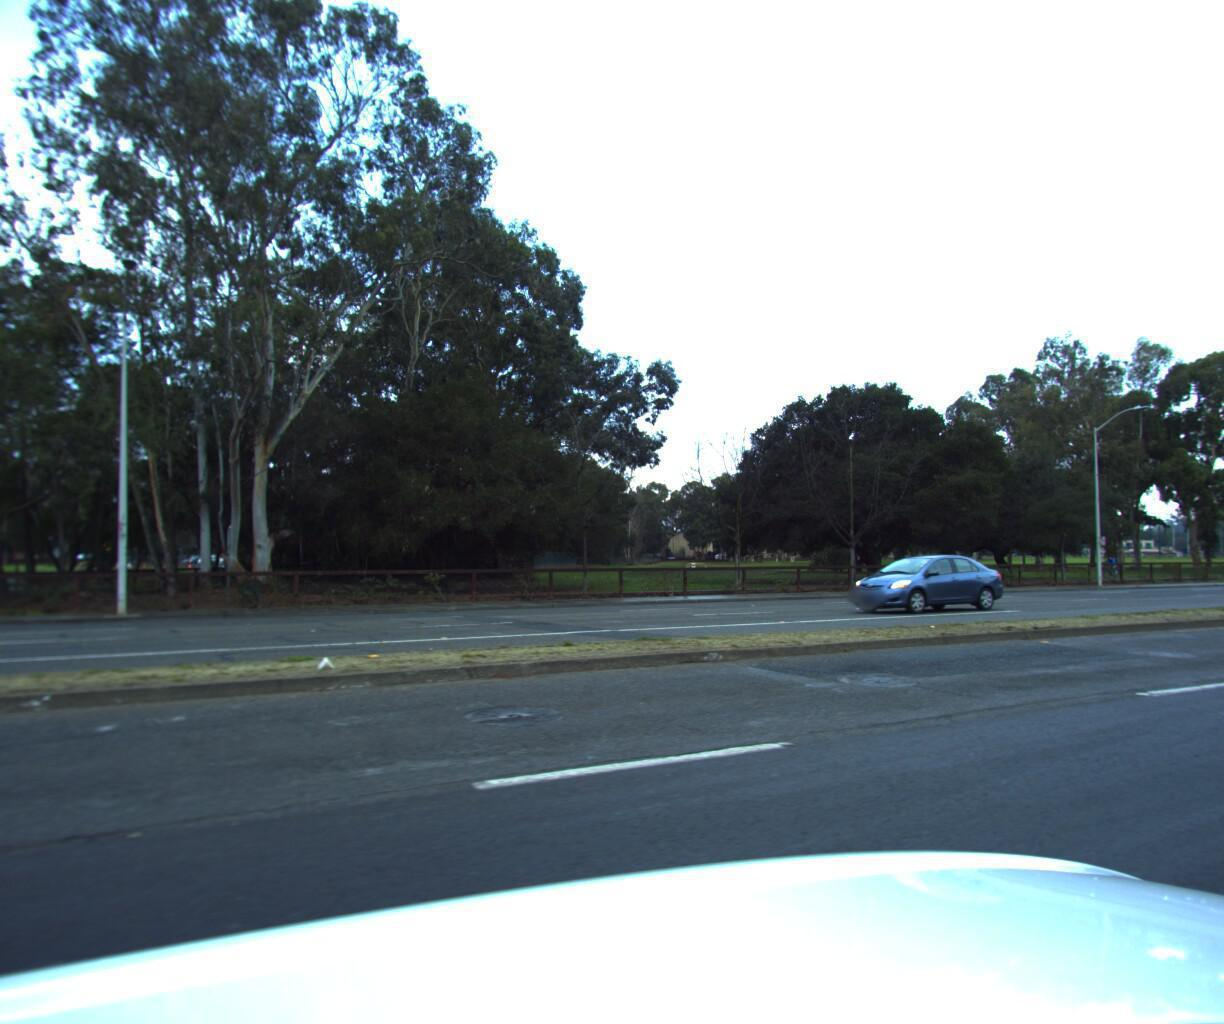car: (839, 548, 1016, 610), (1091, 548, 1126, 574), (1223, 549, 1224, 585)
